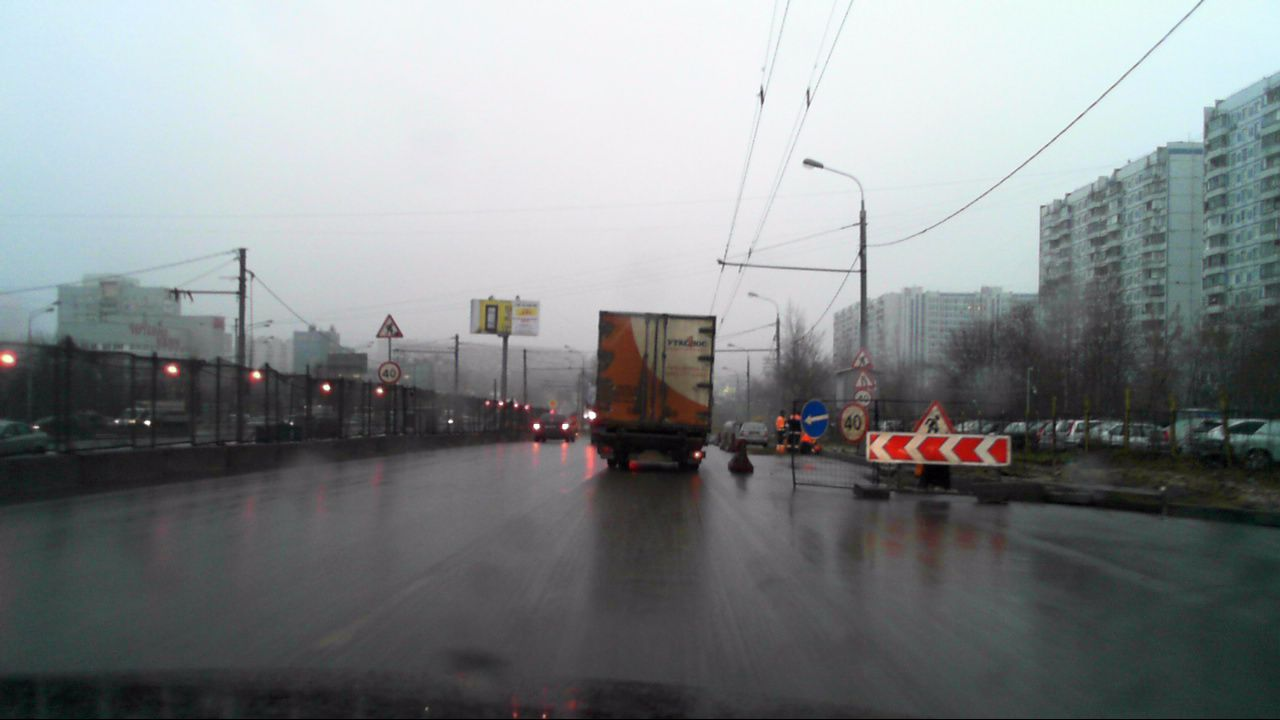Turn Left: (802, 399, 829, 437)
speed_warning_40: (854, 390, 871, 408)
